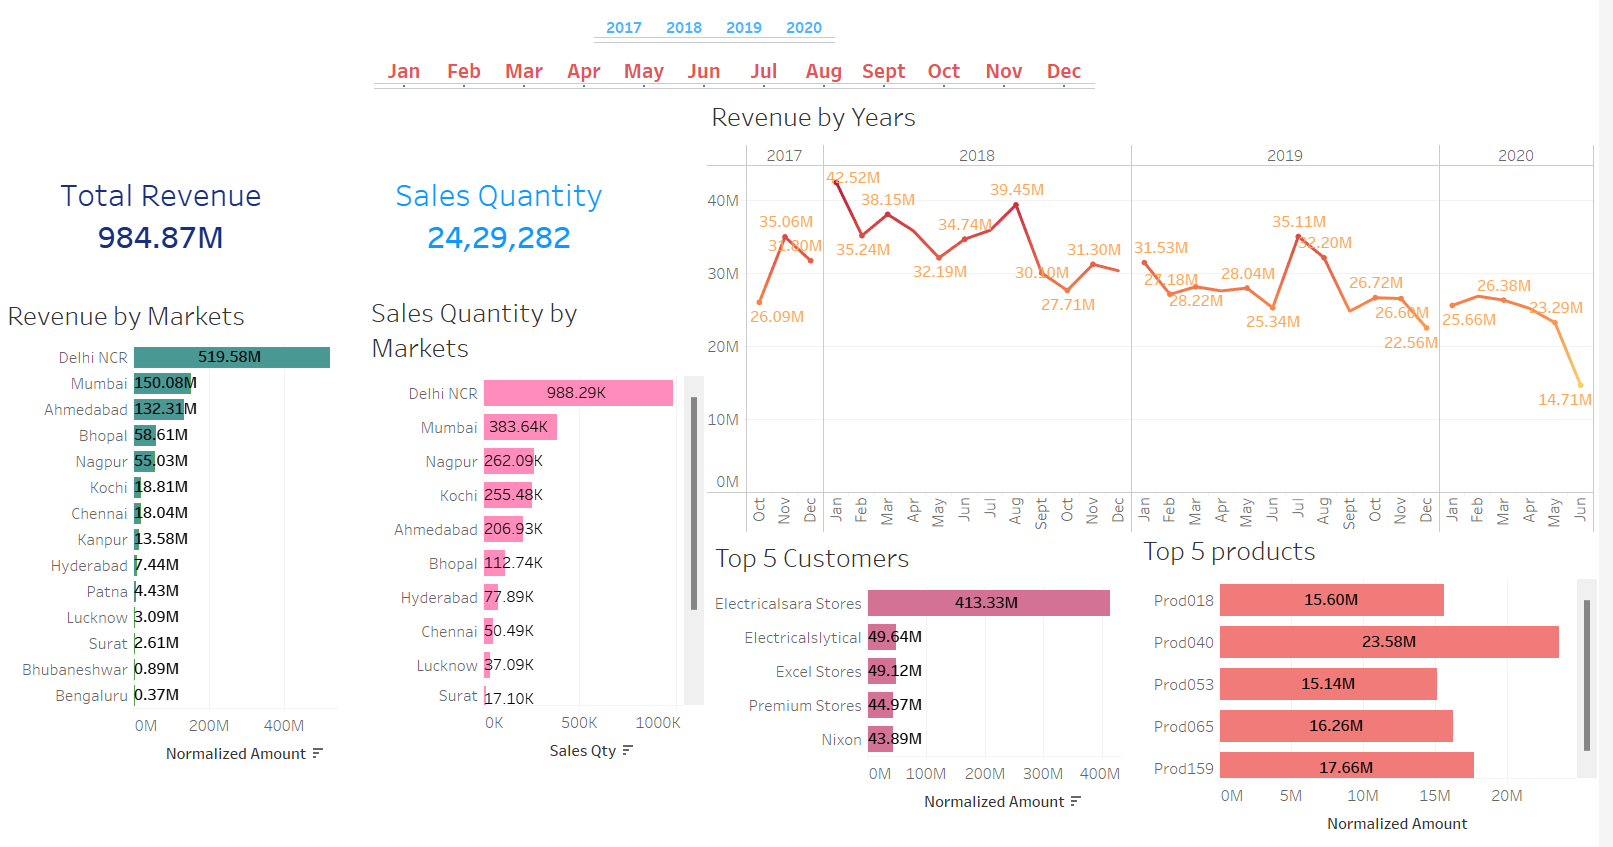

This screenshot's page, from the dashboard's own definition file:
{"tool":"tableau","page":{"name":"Dashboard Revenue_Analysis","canvas":[1600,900],"ordinal":1},"visuals":[{"type":"worksheet","title":"Year","mark":"Automatic","cols":["cy_date"],"box":[595,22,241,43]},{"type":"worksheet","title":"Month","mark":"Automatic","cols":["cy_date"],"box":[375,47,790,99]},{"type":"worksheet","title":"Revenue by Years","mark":"Automatic","rows":["Calculation_1312799336575832064"],"cols":["cy_date","cy_date"],"box":[708,100,887,438]},{"type":"worksheet","title":"Qunatity","mark":"Automatic","box":[390,163,287,195]},{"type":"worksheet","title":"Revenue","mark":"Automatic","box":[52,178,257,167]},{"type":"worksheet","title":"Sales Quantity by Markets","mark":"Automatic","rows":["markets_name"],"cols":["sales_qty"],"box":[368,296,337,477]},{"type":"worksheet","title":"Top 5 products","mark":"Automatic","rows":["product_code (products)"],"cols":["Calculation_1312799336575832064"],"box":[1140,534,458,312]},{"type":"worksheet","title":"Top 5 Customers","mark":"Automatic","rows":["custmer_name"],"cols":["Calculation_1312799336575832064"],"box":[712,541,411,284]}]}

Visuals, with their boxes on the page's 1600x900 design canvas (x1, y1, x2, y2). These are canvas units, not pixel positions in the 1613x847 screenshot, which may show the page scaled, cropped or inside an application window:
"Year" worksheet: (left=595, top=22, right=836, bottom=65)
"Month" worksheet: (left=375, top=47, right=1165, bottom=146)
"Revenue by Years" worksheet: (left=708, top=100, right=1595, bottom=538)
"Qunatity" worksheet: (left=390, top=163, right=677, bottom=358)
"Revenue" worksheet: (left=52, top=178, right=309, bottom=345)
"Sales Quantity by Markets" worksheet: (left=368, top=296, right=705, bottom=773)
"Top 5 products" worksheet: (left=1140, top=534, right=1598, bottom=846)
"Top 5 Customers" worksheet: (left=712, top=541, right=1123, bottom=825)
